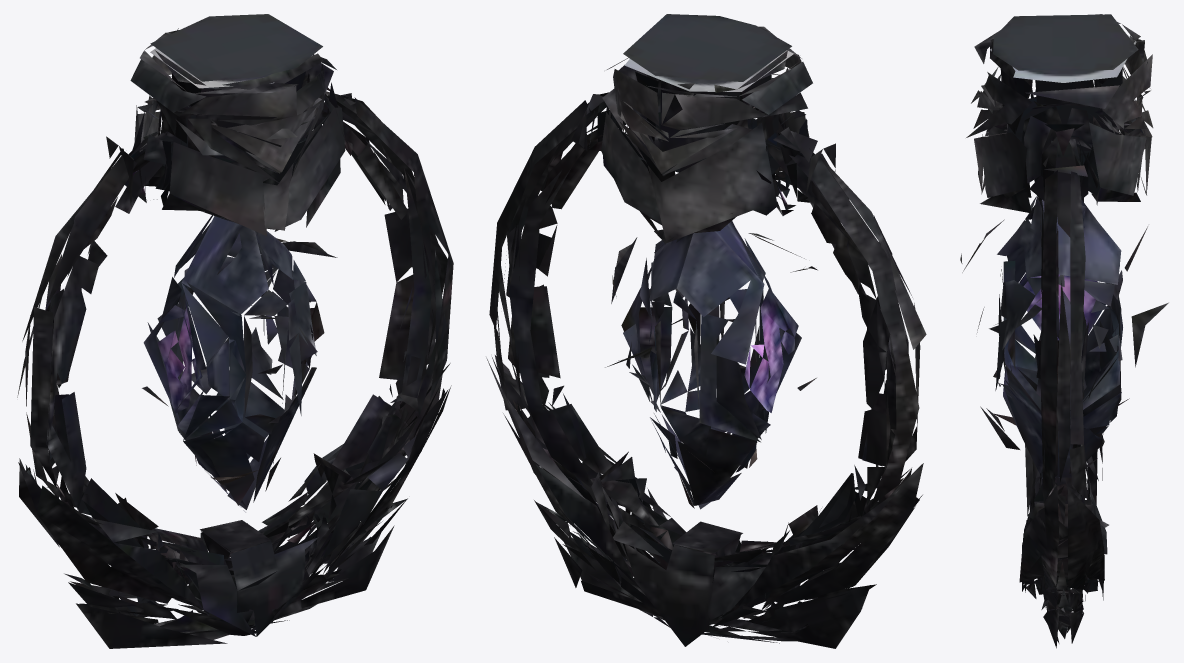
Rendered from relic-atlas-spindle-focal-lod2.glb.
3 renders of one model, left to right at view 1: azimuth 30°, elevation 25°; view 2: azimuth 150°, elevation 25°; view 3: azimuth 270°, elevation 25°, orthographic. The views are drawn at different scales.
Visible parts, largest first — view 1: xenovoya_runtime_asset; view 2: xenovoya_runtime_asset; view 3: xenovoya_runtime_asset.
Part boxes in pixels (x1,y1,x2,y2): xenovoya_runtime_asset: (17, 14, 453, 648); xenovoya_runtime_asset: (486, 14, 926, 648); xenovoya_runtime_asset: (960, 14, 1168, 648).
Size of the model in its own units: 0.3994 by 0.5121 by 0.1747.
1 material, 1 textured.
